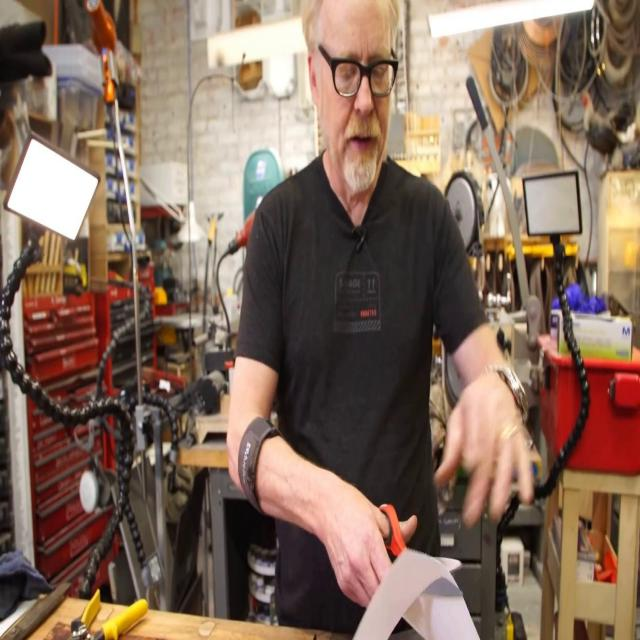scissor: (376, 501, 463, 598)
